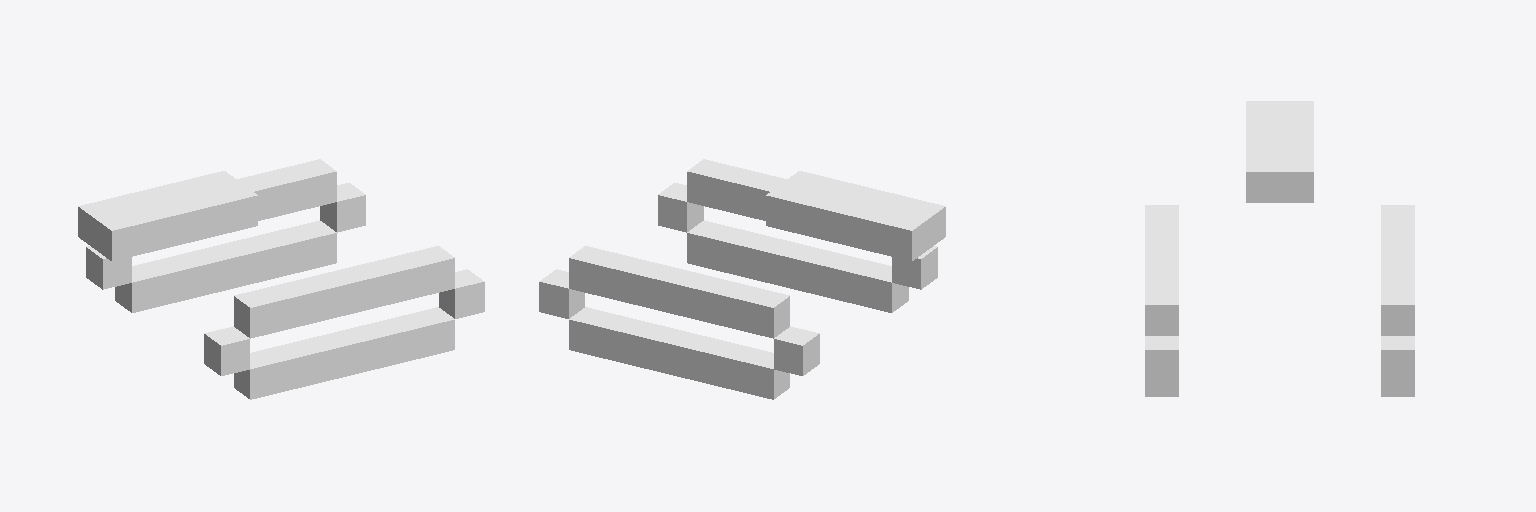
File: tankblack.obj
The picture shows the model from 3 angles: view 1: azimuth 30°, elevation 25°; view 2: azimuth 150°, elevation 25°; view 3: azimuth 270°, elevation 25°; orthographic projection.
Visible parts, largest first — view 1: object 1; view 2: object 1; view 3: object 1.
Part boxes in pixels (x1,y1,x2,y2): object 1: (78, 159, 484, 399); object 1: (539, 159, 945, 399); object 1: (1145, 101, 1414, 396).
Size of the model in its own units: 1.1 by 0.5 by 0.8.